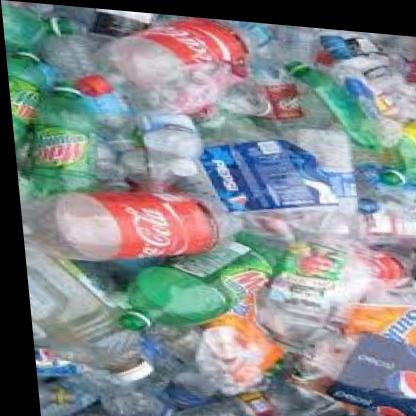Plastic: (10, 2, 416, 416)
